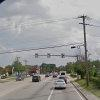Car: (50, 70, 82, 99)
